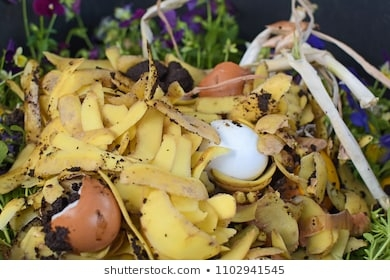kitchen_waste: (137, 187, 241, 260), (47, 170, 131, 256), (194, 113, 270, 185), (124, 37, 196, 100), (291, 146, 348, 210), (251, 189, 301, 257), (79, 89, 121, 162), (293, 205, 375, 242), (18, 55, 49, 150), (193, 55, 253, 102), (124, 104, 168, 168), (37, 48, 131, 73), (263, 15, 323, 44)
